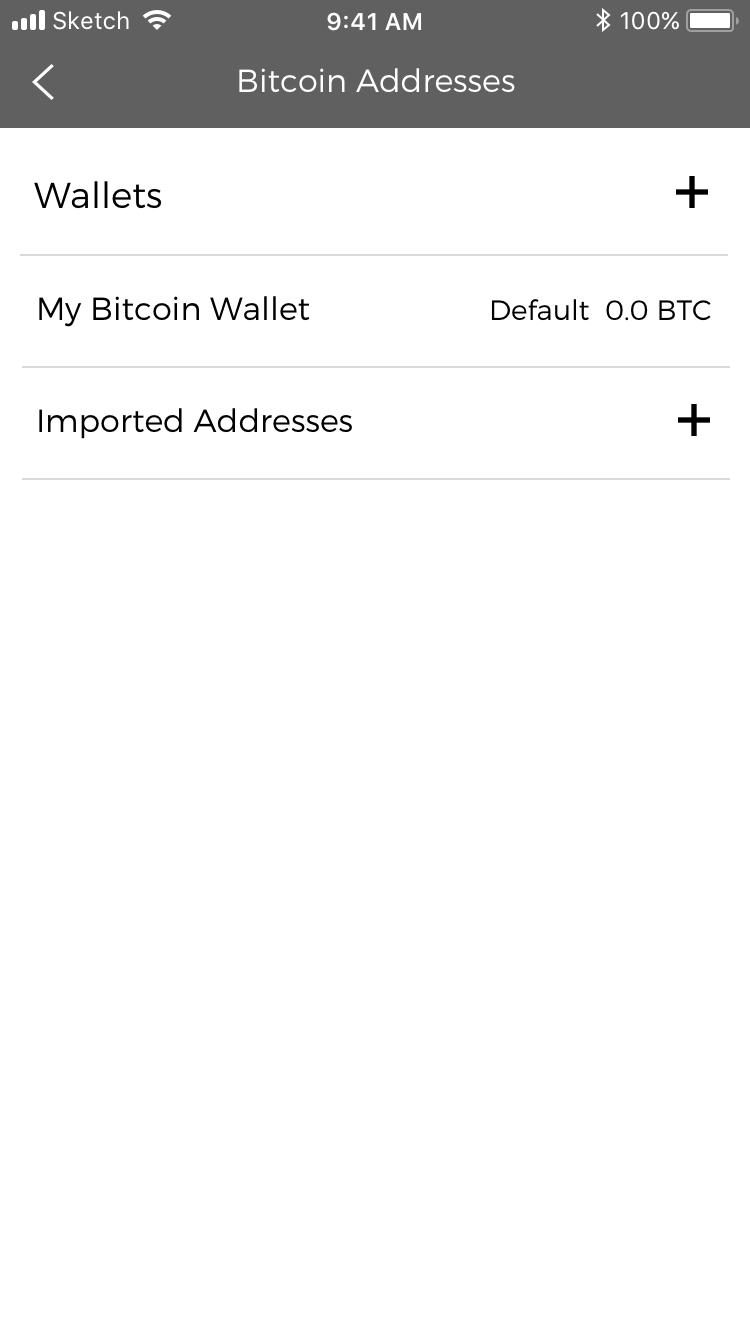Icon: (676, 405, 713, 436), (675, 177, 709, 210), (31, 65, 58, 102)
Text: (38, 407, 353, 439), (37, 296, 311, 328), (238, 67, 516, 95), (490, 296, 712, 324), (33, 181, 163, 211)
UpperTaskBar: (1, 1, 750, 36)
